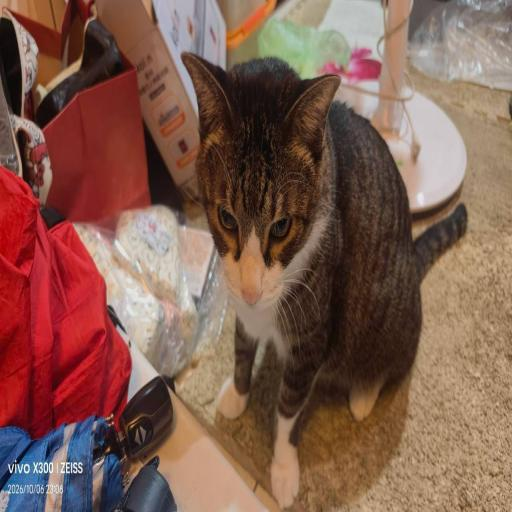cat: (204, 80, 417, 476)
